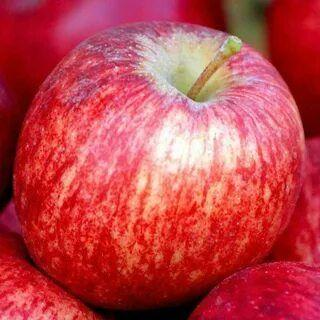Apple: (13, 19, 306, 311)
